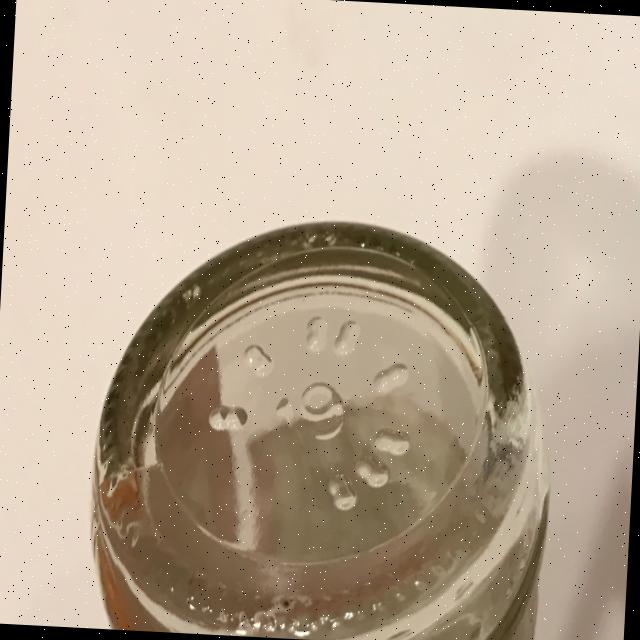glass: (83, 207, 564, 640)
